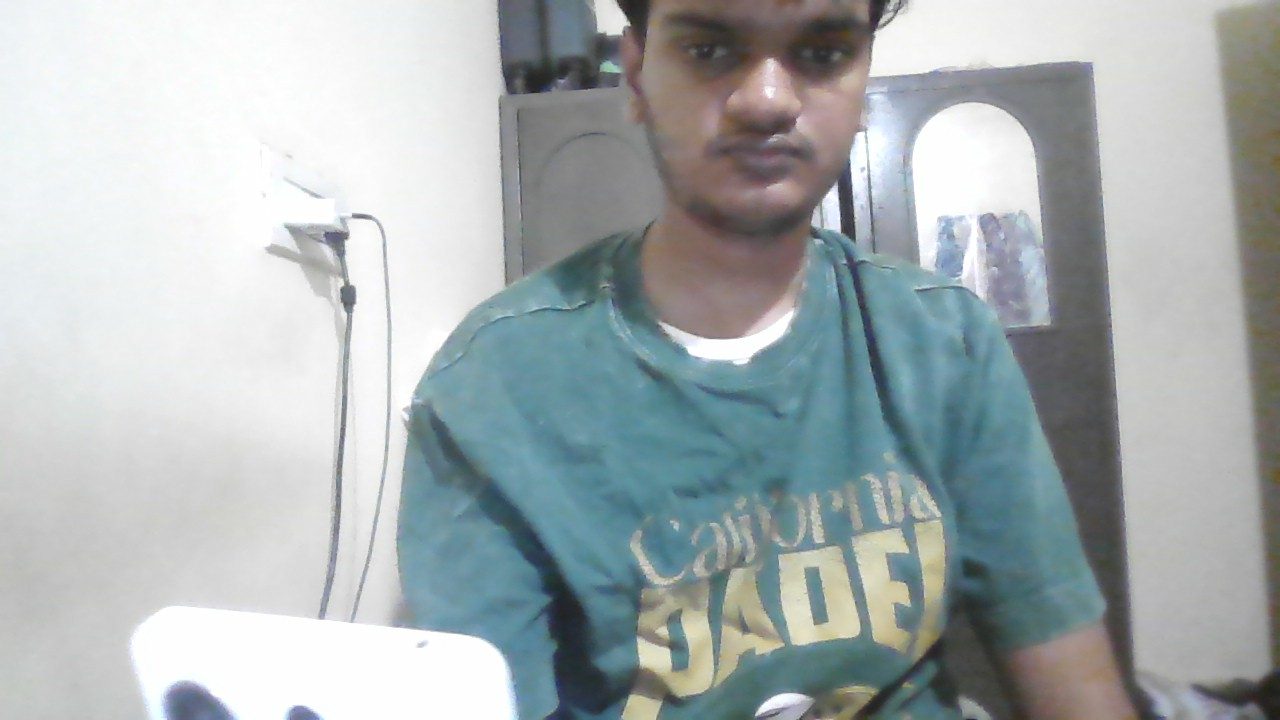phone: (125, 615, 527, 720)
